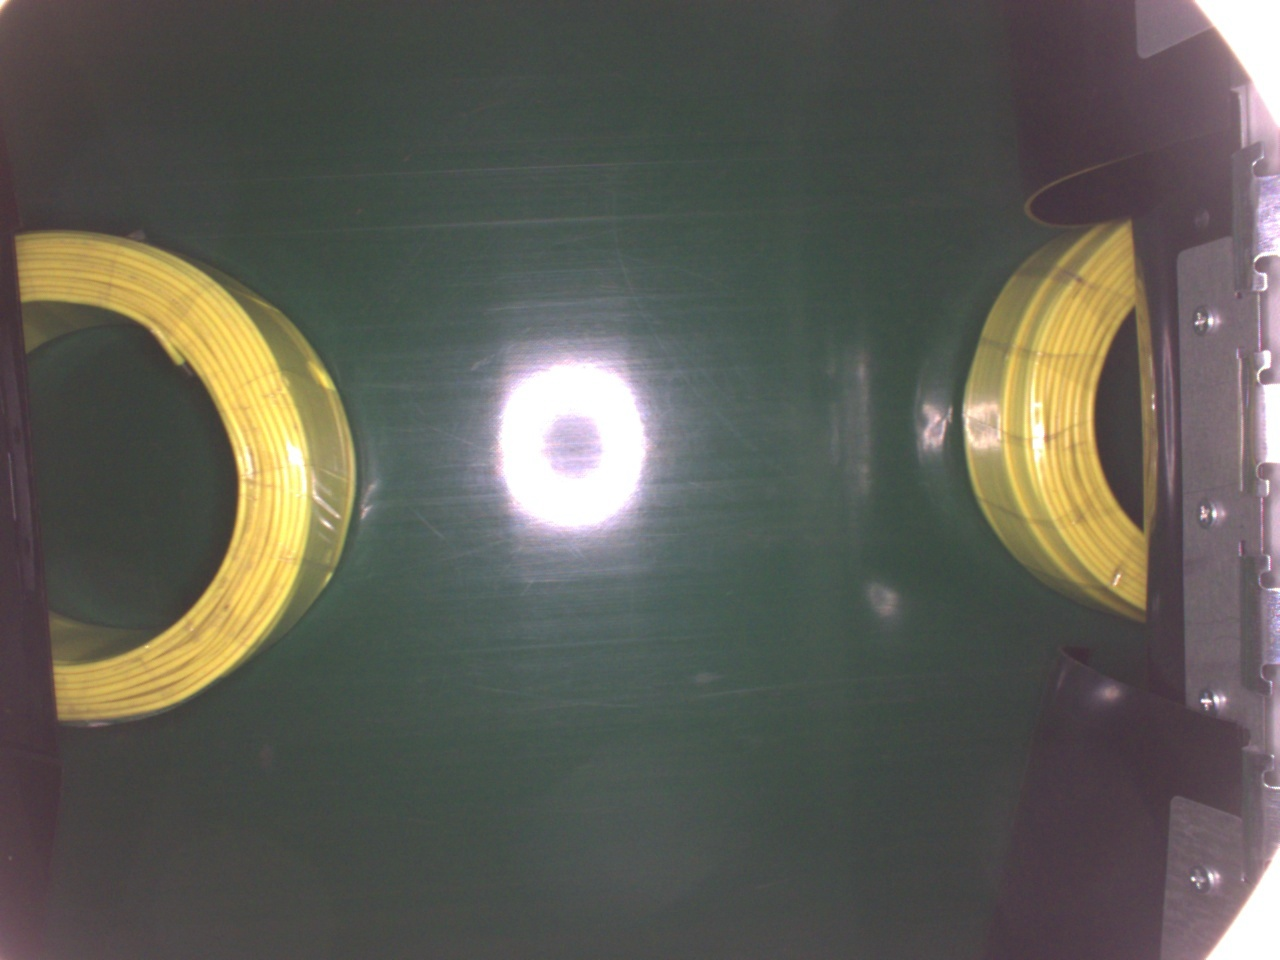yellow: (17, 219, 359, 719), (964, 216, 1149, 620)
